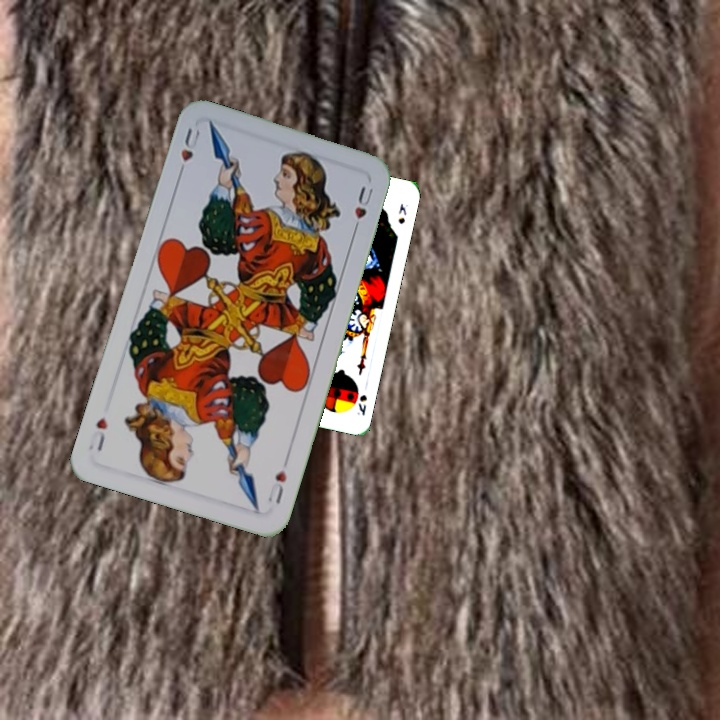HU: (174, 124, 203, 180), (264, 465, 289, 507)
SK: (353, 391, 369, 418)
